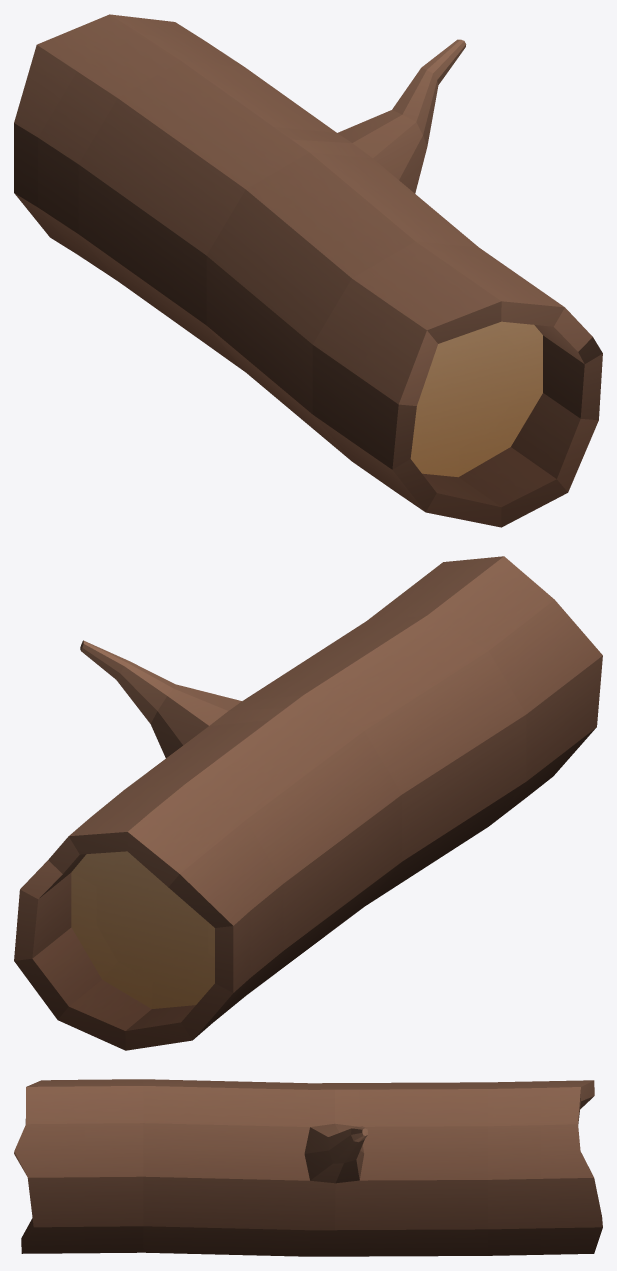
The model's file is kłoda2.fbx.
3 renders of one model, top to bottom at view 1: azimuth 30°, elevation 25°; view 2: azimuth 150°, elevation 25°; view 3: azimuth 270°, elevation 25°, orthographic. The views are drawn at different scales.
Parts seen in each view (by area): view 1: kłoda2; view 2: kłoda2; view 3: kłoda2.
Boxes of the visible parts, x1=… form: kłoda2: x1=14, y1=14, x2=602, y2=527; kłoda2: x1=14, y1=556, x2=602, y2=1050; kłoda2: x1=14, y1=1079, x2=602, y2=1256.
Size of the model in its own units: 285 by 234 by 666.
